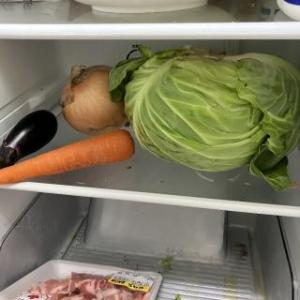cabbage: (106, 44, 300, 194)
carrot: (0, 128, 136, 188)
eggplant: (0, 108, 60, 170)
onion: (60, 62, 132, 138)
